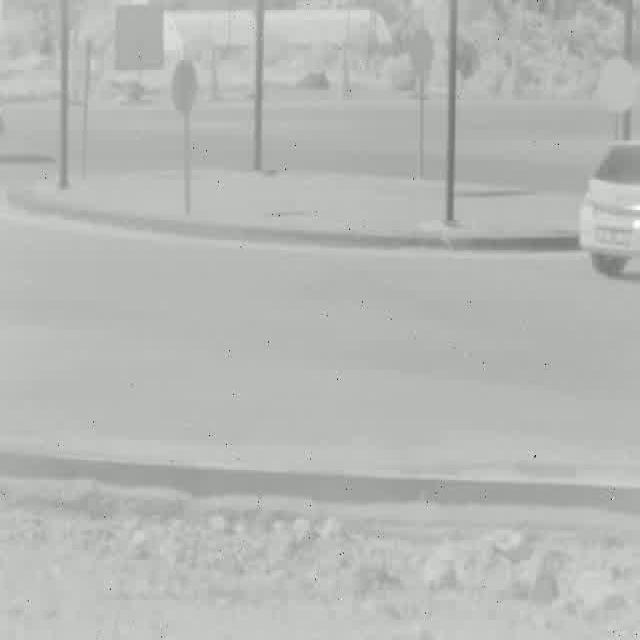Car: (575, 139, 640, 271)
